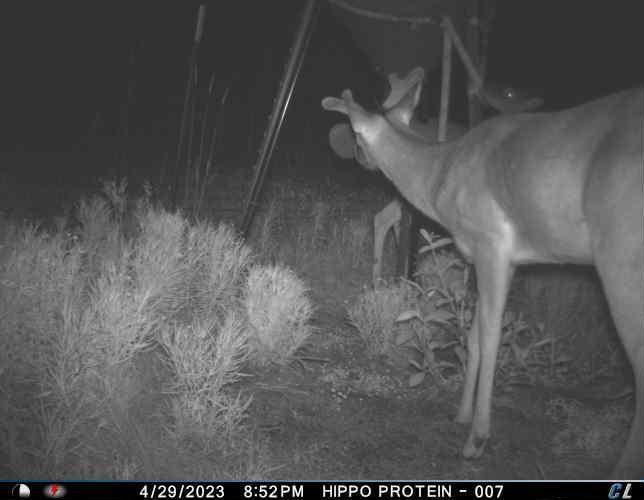Deer: (322, 66, 644, 479), (367, 77, 542, 284)
